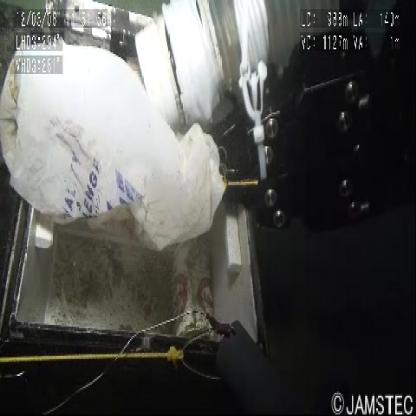Rov: (47, 6, 416, 334)
Rác: (3, 31, 241, 256)
